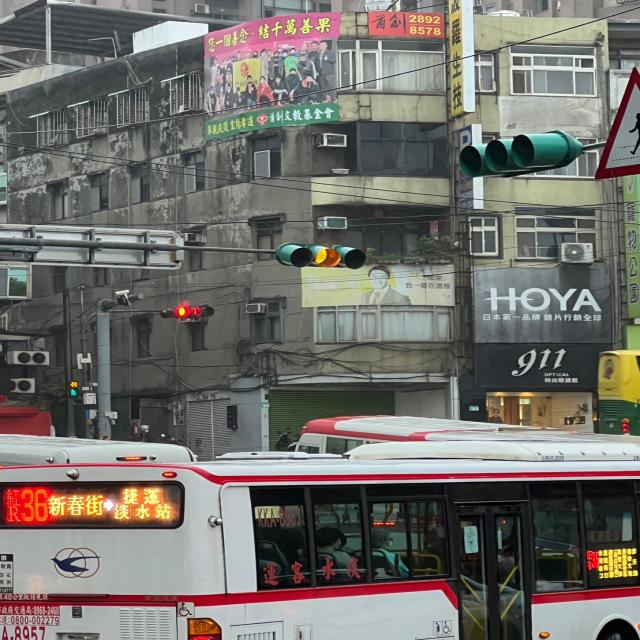red light: (160, 303, 218, 321)
yellow light: (274, 244, 369, 271)
